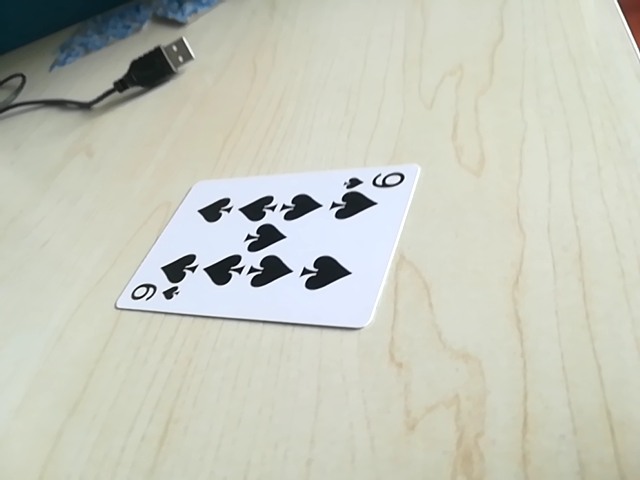ht 9: (341, 168, 409, 196), (120, 280, 179, 311)
